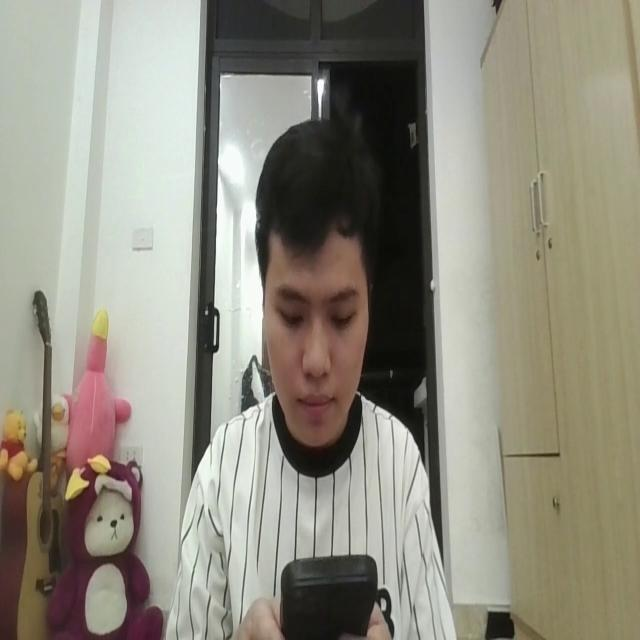phone: (278, 544, 378, 640)
student: (170, 114, 461, 640)
